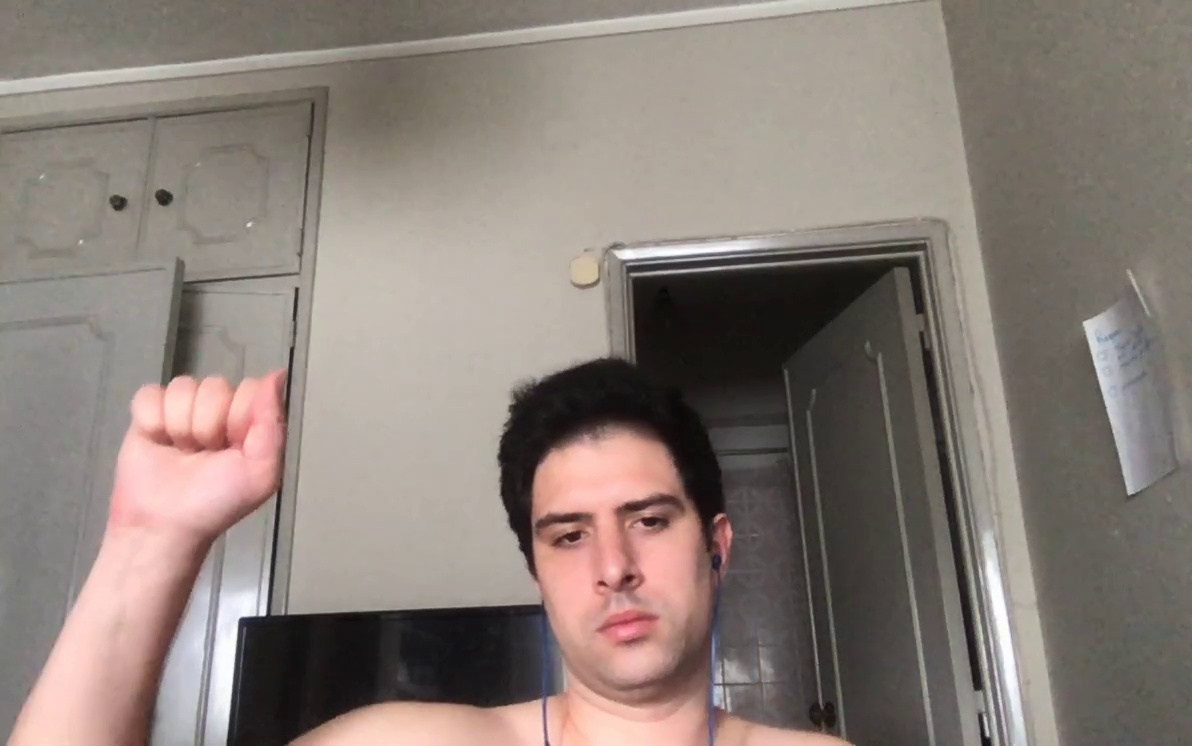a: (94, 345, 308, 555)
